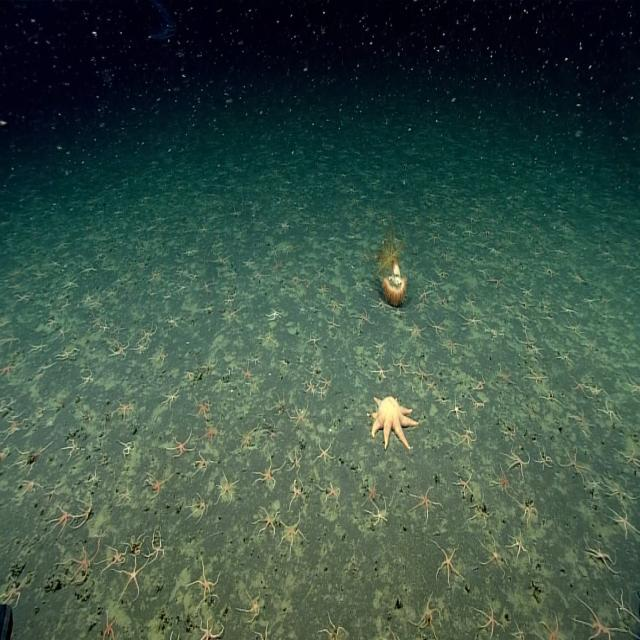brittle-stars: (573, 598, 616, 640), (66, 543, 100, 583), (119, 517, 152, 557), (191, 560, 221, 600), (120, 554, 147, 596), (436, 542, 463, 583), (479, 535, 505, 574), (587, 538, 615, 572), (536, 379, 563, 413), (609, 507, 637, 538), (280, 516, 304, 551), (411, 487, 438, 518), (418, 594, 440, 632), (562, 444, 586, 478), (476, 604, 500, 637), (14, 444, 44, 470), (1, 574, 26, 604), (258, 455, 282, 486), (614, 588, 637, 620), (506, 448, 531, 476), (607, 481, 635, 506), (51, 504, 74, 534), (240, 591, 260, 623), (255, 508, 277, 537), (472, 495, 493, 525), (169, 432, 193, 458), (216, 473, 236, 504), (76, 494, 94, 528), (103, 545, 127, 570), (538, 616, 563, 640), (618, 442, 640, 469), (510, 531, 531, 559), (268, 249, 289, 277), (323, 615, 346, 640), (198, 618, 224, 640), (188, 492, 208, 520), (492, 466, 512, 494), (457, 248, 481, 270), (198, 299, 219, 324), (370, 501, 389, 528), (453, 427, 476, 449), (146, 473, 166, 498), (202, 419, 222, 444), (19, 478, 44, 498), (339, 214, 365, 233), (289, 405, 309, 429), (148, 533, 164, 562), (3, 416, 25, 437), (349, 275, 370, 297), (367, 338, 394, 355), (321, 482, 340, 506), (455, 472, 473, 497), (240, 428, 258, 453), (600, 401, 618, 426), (101, 615, 118, 640), (526, 367, 547, 387), (0, 359, 20, 380), (570, 406, 588, 429), (317, 440, 334, 464), (442, 335, 462, 355), (272, 391, 288, 416), (179, 365, 199, 385), (414, 361, 433, 382), (54, 297, 76, 315), (42, 312, 59, 335), (195, 451, 211, 475), (535, 448, 551, 471), (521, 498, 537, 521), (162, 388, 180, 408), (115, 401, 133, 420), (461, 312, 480, 330), (1, 332, 20, 350), (435, 247, 453, 266), (117, 484, 134, 504), (570, 375, 587, 395), (194, 400, 211, 420), (153, 347, 170, 367), (393, 354, 409, 375), (163, 624, 184, 640), (450, 399, 465, 421), (289, 482, 304, 504), (111, 342, 129, 360), (517, 332, 535, 350), (428, 316, 445, 335), (288, 449, 302, 472), (363, 483, 379, 503), (65, 440, 81, 460), (409, 320, 425, 340), (627, 375, 640, 399), (141, 322, 157, 341), (56, 322, 72, 341), (81, 369, 96, 389), (58, 347, 78, 362), (514, 620, 529, 640), (371, 361, 388, 378), (354, 306, 370, 324), (202, 356, 218, 374), (161, 284, 174, 306), (497, 366, 512, 385), (267, 423, 282, 442), (30, 339, 47, 355), (570, 271, 587, 287), (119, 440, 134, 458), (373, 299, 391, 314), (469, 394, 485, 410), (565, 319, 581, 335), (470, 374, 484, 392), (16, 290, 34, 304), (488, 274, 504, 289), (558, 349, 572, 366), (112, 318, 126, 335), (584, 337, 598, 354), (96, 526, 110, 543), (385, 626, 402, 640), (254, 627, 272, 640), (248, 378, 261, 396), (425, 276, 440, 291), (268, 307, 284, 321), (541, 264, 555, 280), (134, 342, 150, 356), (242, 362, 254, 380), (64, 276, 79, 290), (308, 334, 322, 349), (501, 302, 515, 317), (252, 268, 266, 283), (561, 304, 575, 319), (488, 326, 503, 340), (326, 315, 340, 330), (88, 467, 100, 484), (347, 262, 359, 279), (358, 246, 370, 263), (584, 293, 598, 307), (622, 262, 636, 276), (202, 280, 215, 295), (167, 314, 180, 329), (327, 299, 342, 312), (214, 252, 229, 265), (306, 379, 318, 395), (553, 245, 567, 258), (290, 272, 303, 286), (222, 292, 235, 306), (226, 306, 239, 320), (464, 224, 478, 237), (476, 266, 490, 279), (84, 264, 98, 277), (84, 288, 95, 304), (0, 314, 11, 330), (0, 445, 9, 464), (464, 294, 476, 308), (519, 300, 533, 312), (106, 286, 118, 300), (370, 202, 382, 216), (438, 393, 450, 407), (265, 332, 276, 347), (426, 379, 437, 394), (435, 291, 446, 306), (99, 319, 110, 334), (318, 282, 330, 295), (393, 308, 406, 320), (418, 288, 430, 301), (350, 195, 362, 208), (475, 240, 488, 252), (591, 383, 602, 397), (321, 376, 332, 390), (522, 284, 533, 298), (488, 245, 502, 256), (92, 297, 103, 311), (228, 267, 239, 281), (539, 300, 550, 314), (243, 256, 255, 268), (175, 267, 187, 279), (590, 478, 602, 490), (149, 270, 161, 282), (531, 346, 543, 358), (250, 354, 262, 366), (438, 268, 450, 280), (177, 282, 188, 295), (306, 365, 317, 378), (415, 301, 428, 312), (483, 228, 494, 240), (531, 246, 542, 258), (188, 272, 199, 284), (52, 256, 63, 268), (317, 387, 327, 400), (138, 260, 148, 273), (431, 217, 442, 228), (0, 400, 7, 417), (328, 242, 337, 255), (446, 228, 456, 239), (470, 214, 480, 225), (297, 304, 306, 316), (281, 218, 290, 230)
